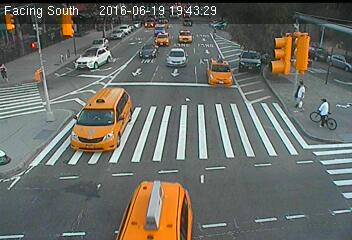neg: (312, 95, 340, 131)
pos: (286, 78, 311, 111)
